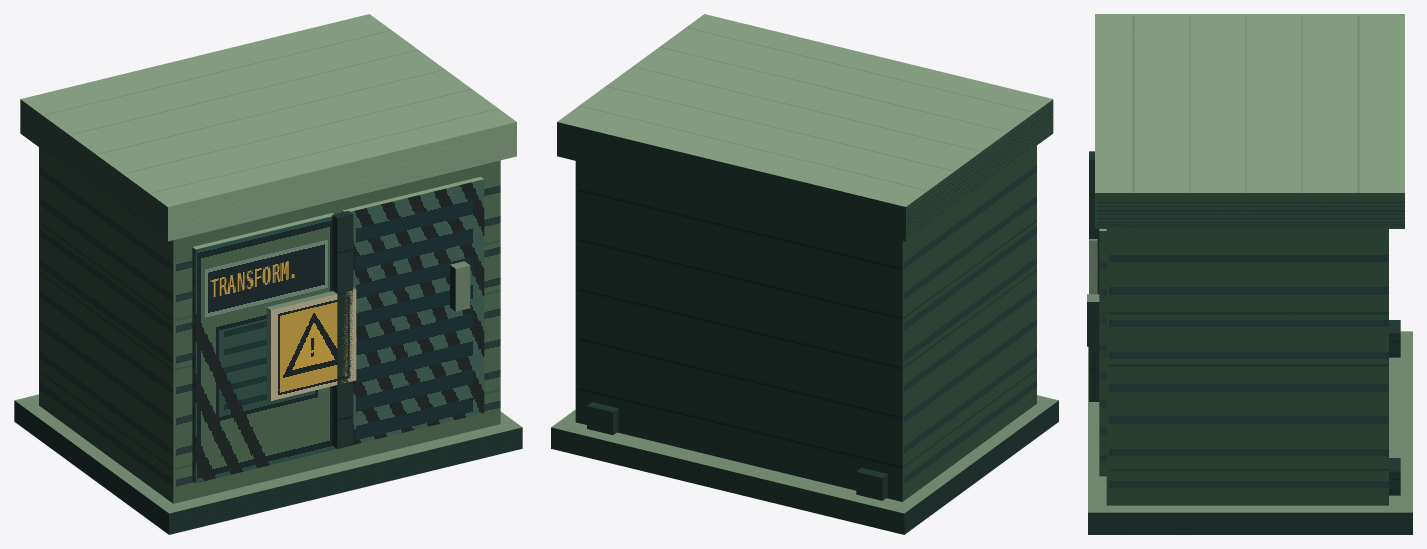
File: transformador_caja_superficie.glb
The picture shows the model from 3 angles, left to right: view 1: azimuth 30°, elevation 25°; view 2: azimuth 150°, elevation 25°; view 3: azimuth 270°, elevation 25°; orthographic projection. The views are drawn at different scales.
Parts seen in each view (by area): view 1: FH_PROP; view 2: FH_PROP; view 3: FH_PROP.
Part boxes in pixels (left/top/right/bottom): FH_PROP: left=14, top=14, right=522, bottom=534; FH_PROP: left=551, top=14, right=1058, bottom=534; FH_PROP: left=1087, top=14, right=1412, bottom=534.
Bounding box in the file's own units: 1.48 × 1.3 × 1.12.
Materials: 1 (1 with a texture image).
